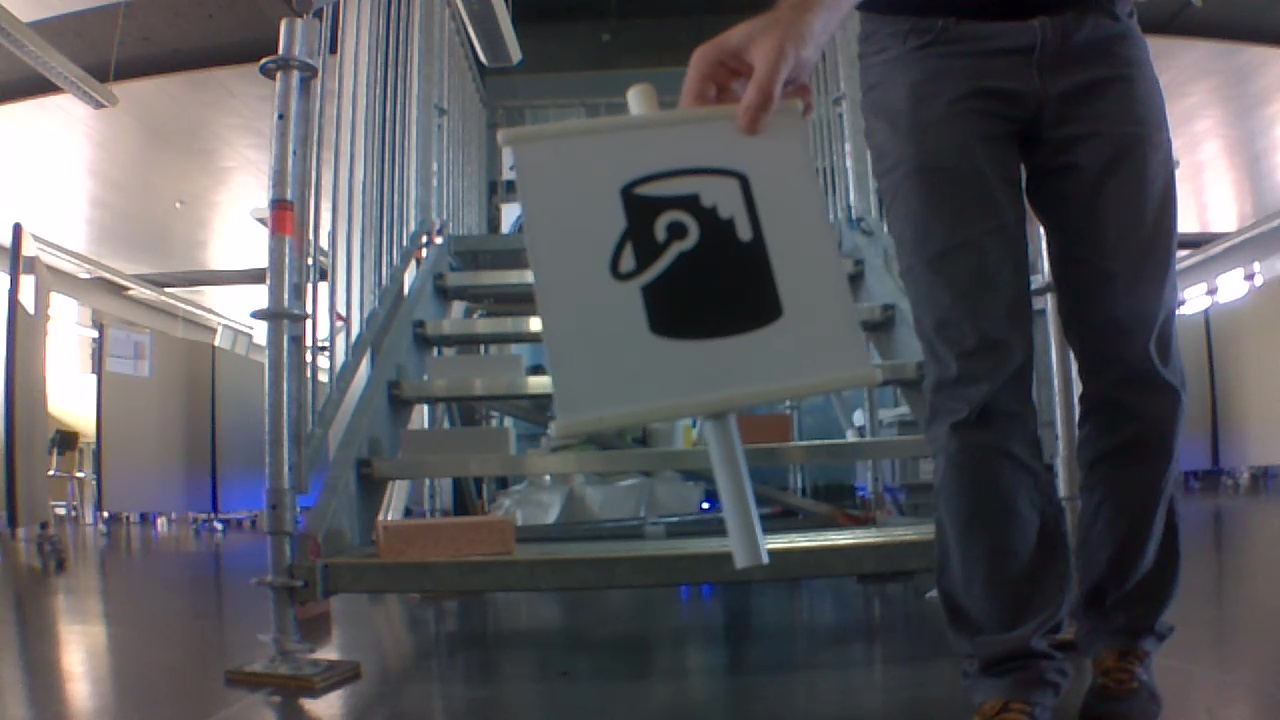brick: (376, 520, 517, 561), (401, 427, 516, 457), (427, 350, 524, 383), (734, 413, 789, 441)
bucket: (610, 163, 785, 347)
edge: (309, 539, 943, 599)
